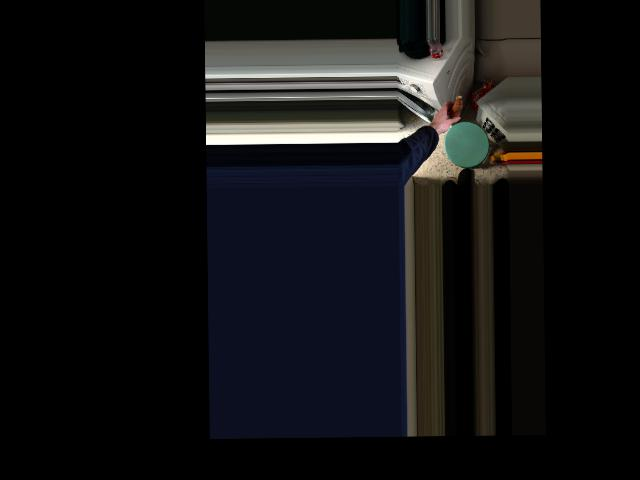sweet_potato: (441, 96, 462, 132)
